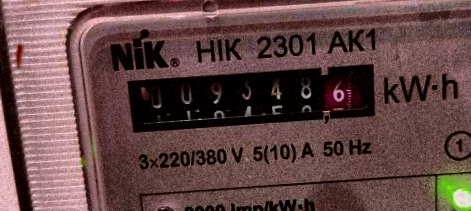0: (146, 84, 164, 111), (177, 79, 192, 106)
3: (237, 76, 253, 102)
4: (264, 71, 284, 103)
6: (328, 75, 347, 105)
8: (296, 72, 313, 101)
9: (208, 80, 224, 108)
screen: (108, 48, 390, 146)
